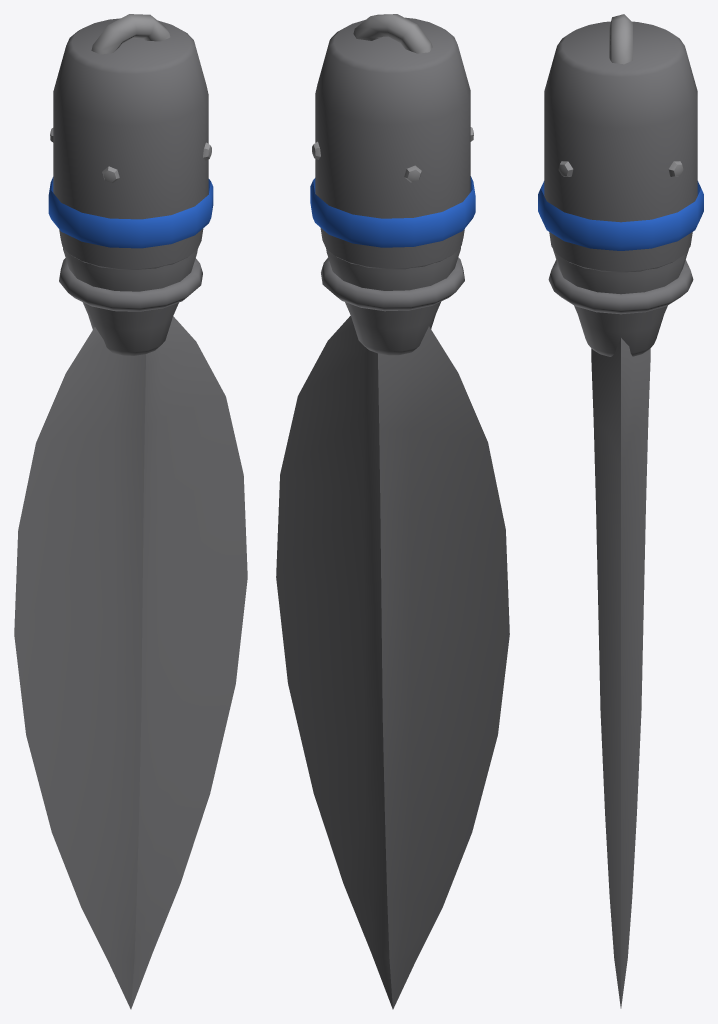
Rendered from Kit_Spear_Tip.glb.
3 renders of one model, left to right at view 1: azimuth 30°, elevation 25°; view 2: azimuth 150°, elevation 25°; view 3: azimuth 270°, elevation 25°, orthographic.
Parts seen in each view (by area): view 1: Kit_Spear_Tip; view 2: Kit_Spear_Tip; view 3: Kit_Spear_Tip.
Part boxes in pixels (x1=…): Kit_Spear_Tip: x1=14, y1=14, x2=247, y2=1009; Kit_Spear_Tip: x1=276, y1=14, x2=509, y2=1009; Kit_Spear_Tip: x1=538, y1=14, x2=703, y2=1008.
Bounding box in the file's own units: 0.118 × 0.4803 × 0.0728.
